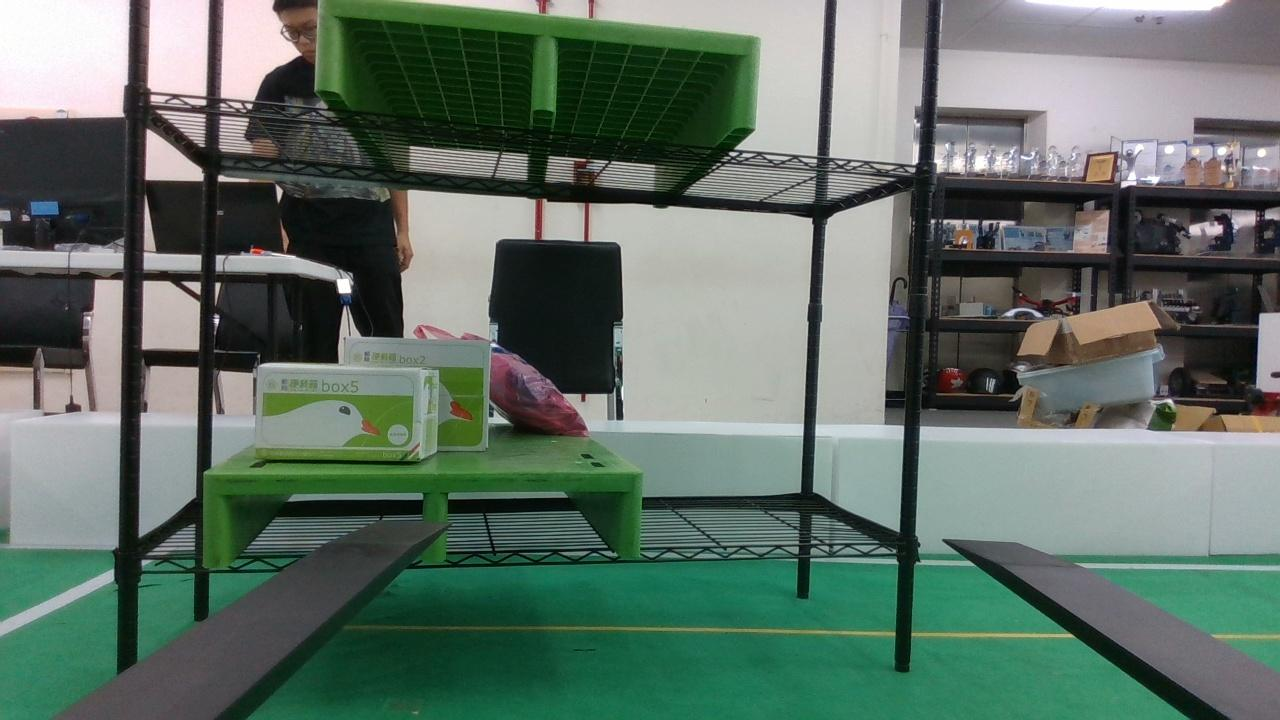Pallet: (309, 0, 762, 123), (201, 471, 647, 572)
